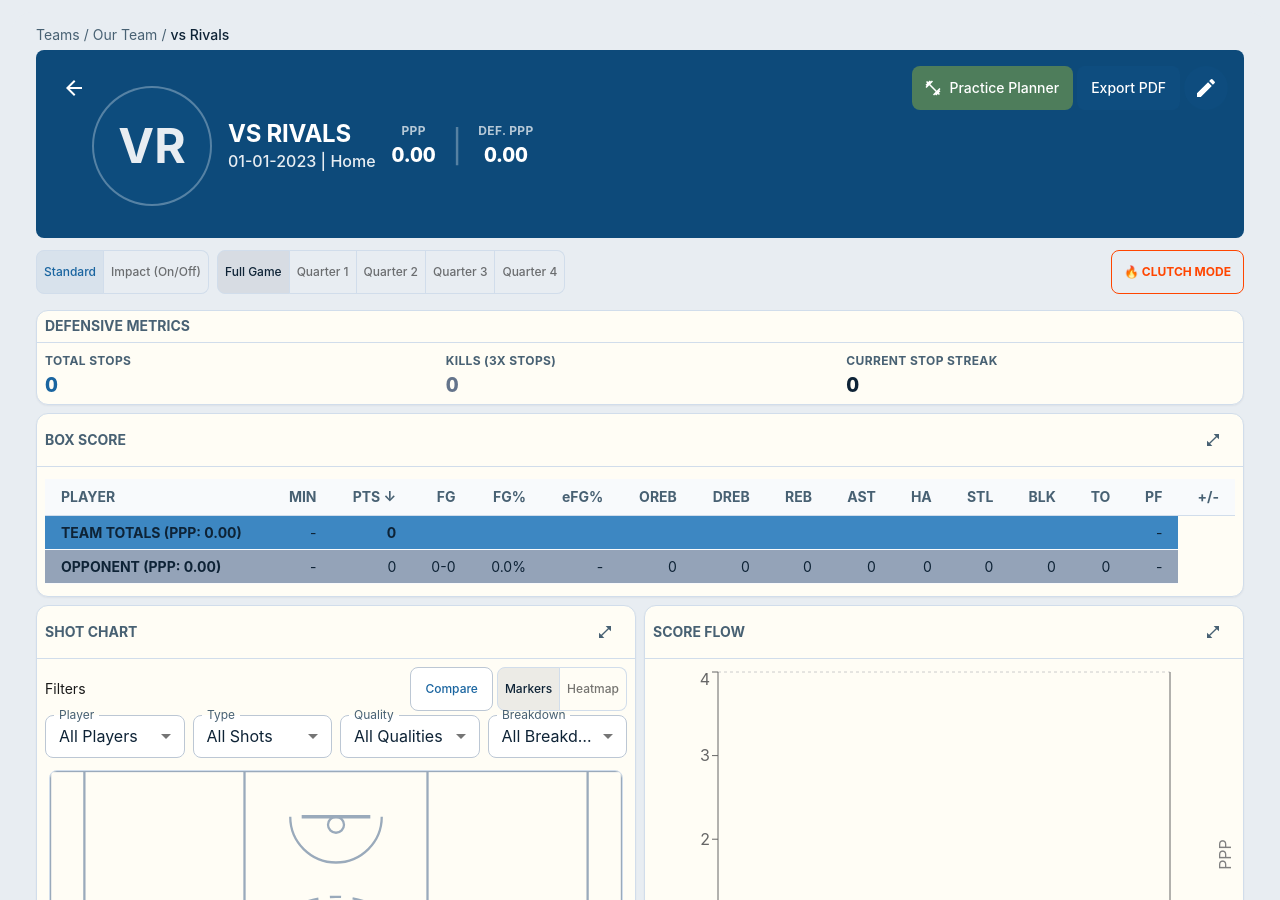
GameStats Page › opens the Edit Game dialog
This screenshot has width=1280, height=900.
Expected: the icon with test id "EditIcon" is shown, [1194, 76, 1218, 100]
Click the button with test id "EditIcon": (1206, 88) [1184, 66, 1228, 110]
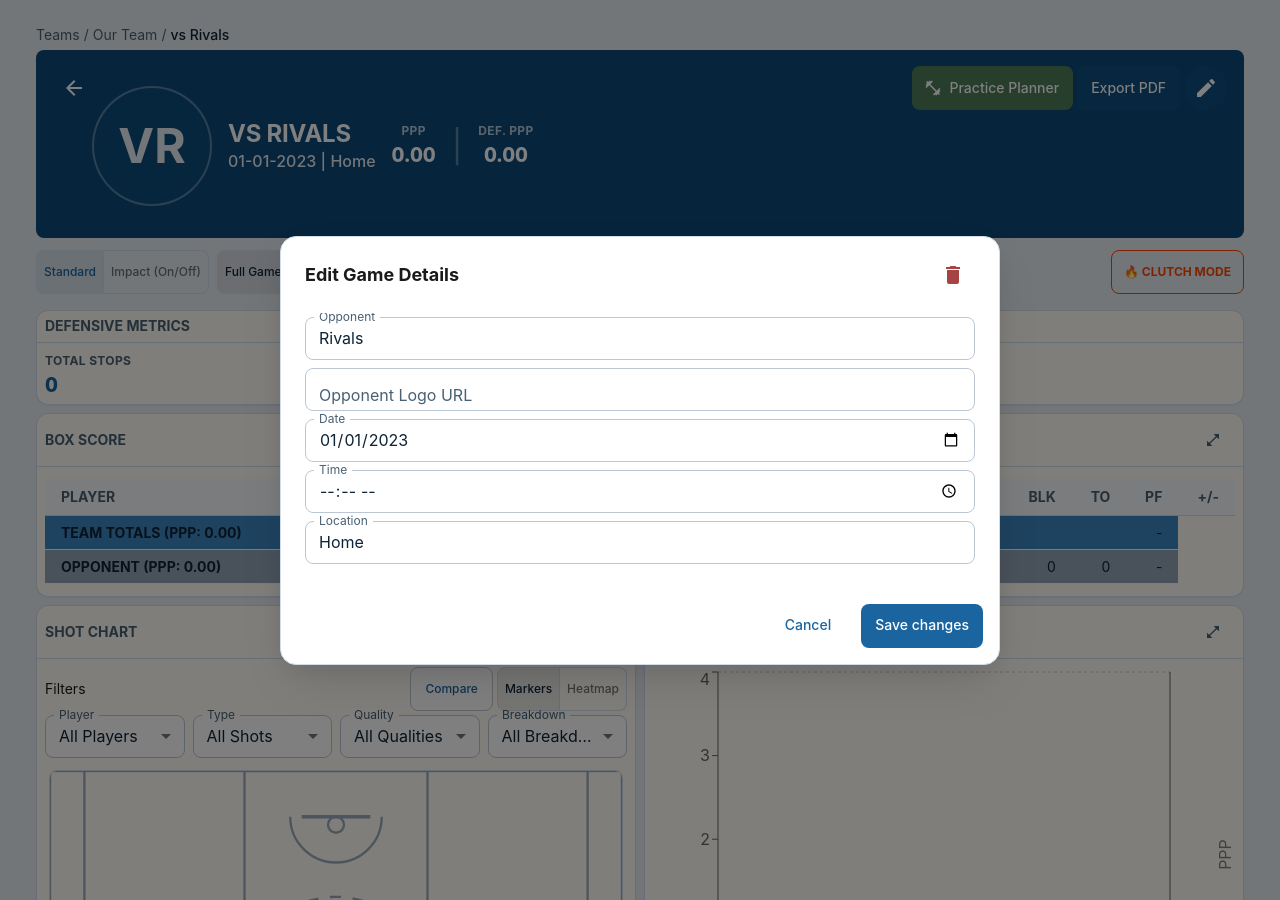
Expected: the heading "Edit Game Details" is shown, [305, 252, 975, 296]
Expected: the field labelled "Opponent" holds "Rivals", [305, 316, 975, 360]
